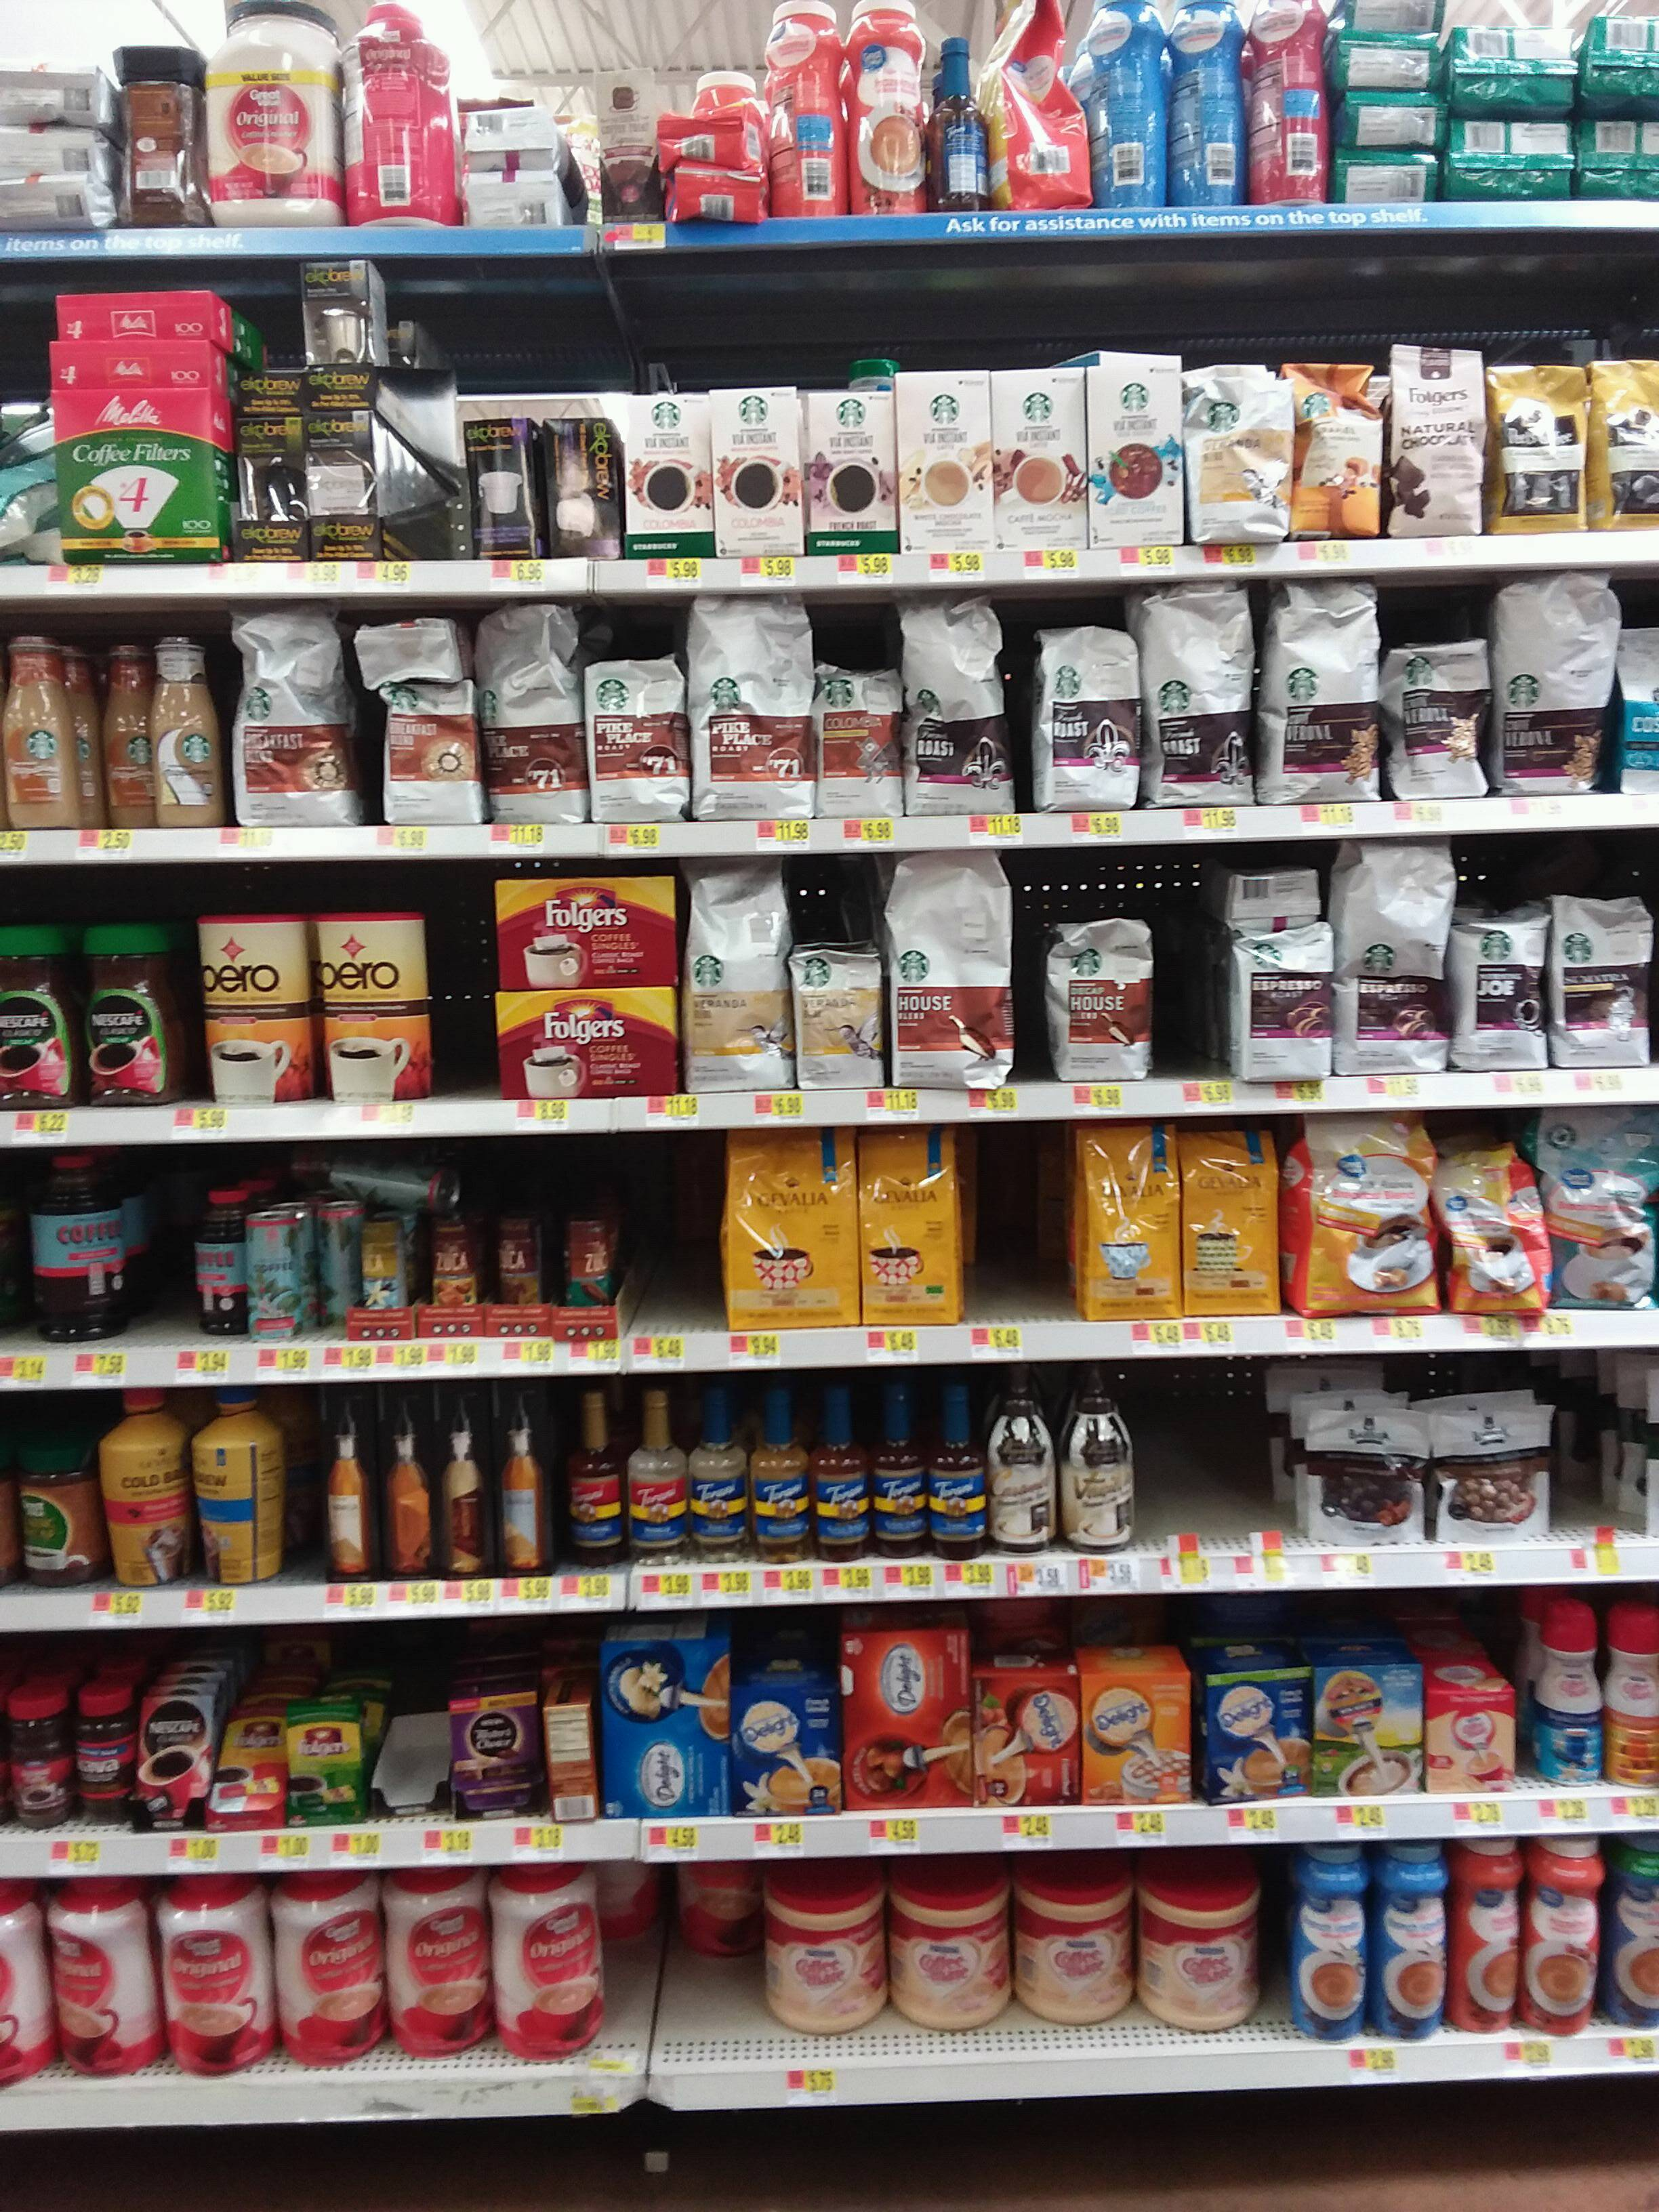Out-of-stock: (625, 1140, 728, 1368)
